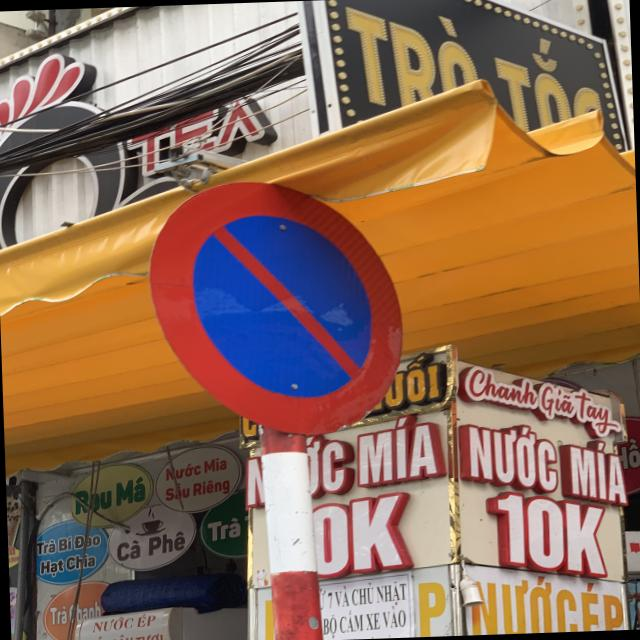Cam_Dau_Xe: (147, 174, 405, 443)
